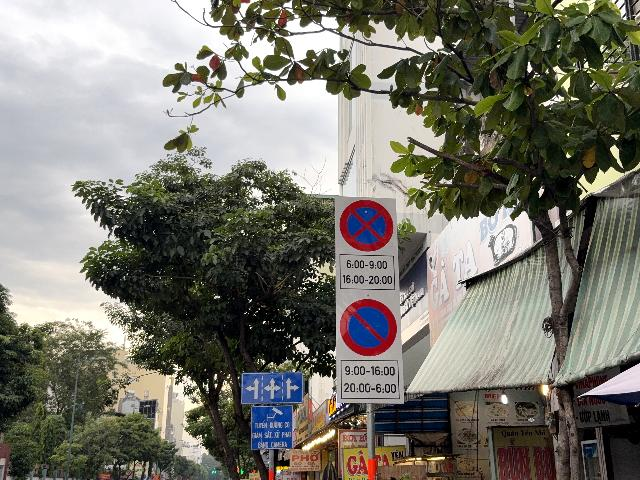cam-do-xe: (340, 297, 398, 356)
cam-dung-va-do-xe: (340, 199, 395, 253)
